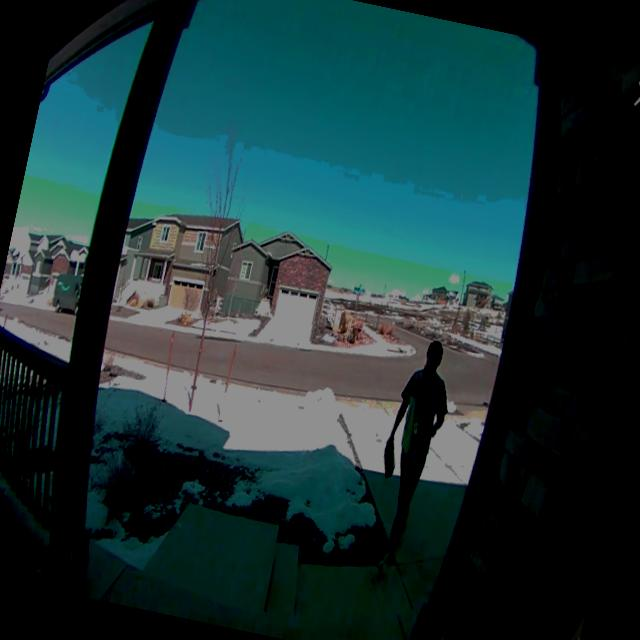Box: (379, 438, 400, 478)
